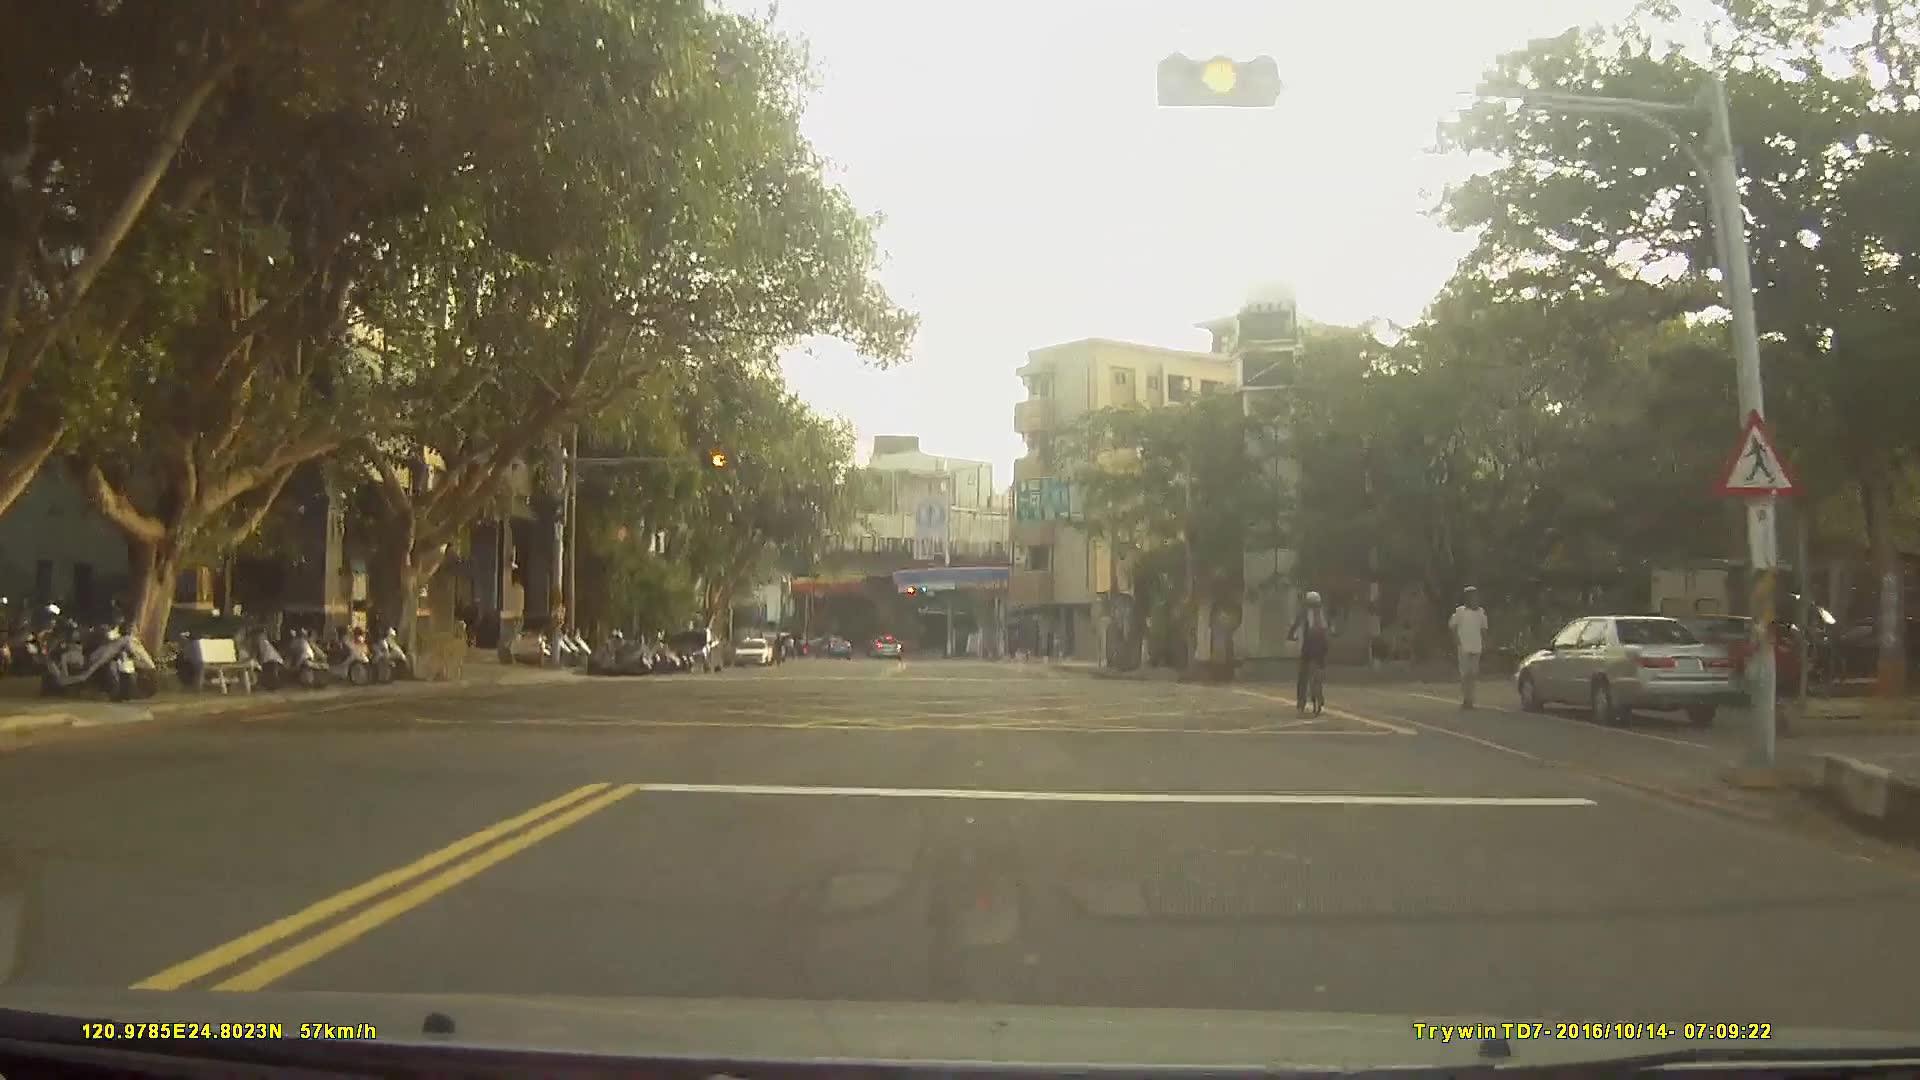pedestrian: (1438, 583, 1499, 716), (449, 598, 472, 652)
rider: (1287, 589, 1337, 715)
vehicle: (1515, 612, 1738, 726), (667, 624, 724, 672), (732, 633, 770, 665), (810, 636, 850, 659), (866, 633, 901, 659)
